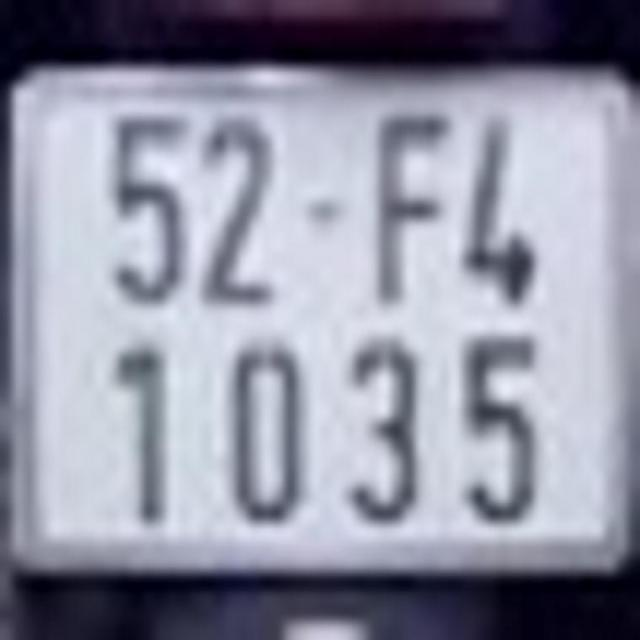0: (225, 333, 308, 524)
1: (103, 338, 177, 524)
2: (200, 103, 284, 304)
3: (334, 330, 420, 525)
4: (460, 102, 544, 310)
5: (103, 103, 193, 304), (454, 328, 542, 522)
F: (368, 100, 451, 306)
